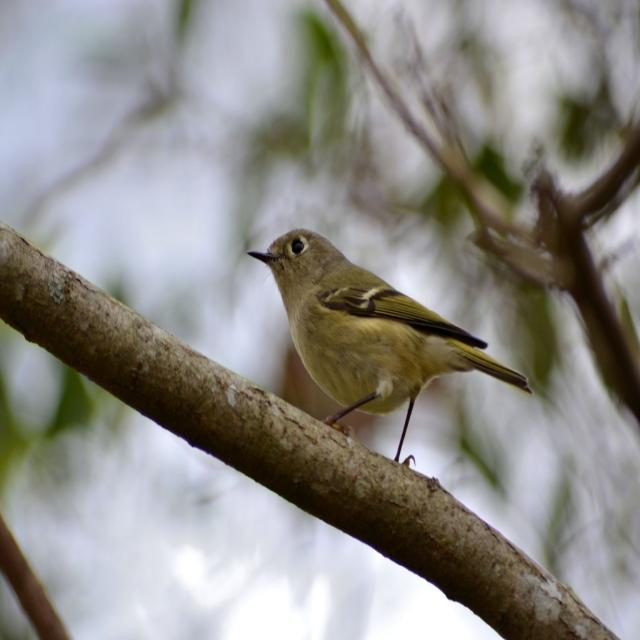bird: (240, 220, 532, 474)
